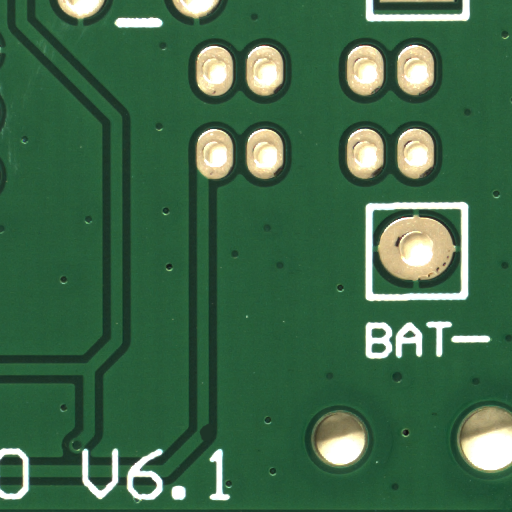Mouse_bite: (206, 433, 219, 451)
